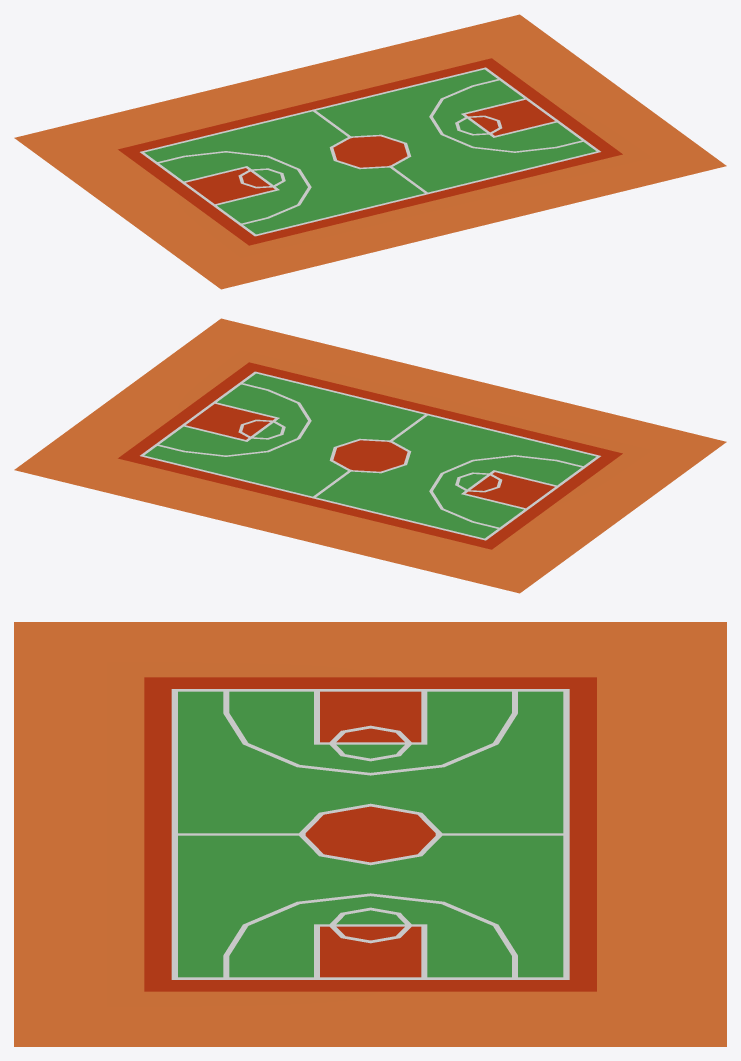
File: SANBONGRO.fbx
The picture shows the model from 3 angles, top to bottom: view 1: azimuth 30°, elevation 25°; view 2: azimuth 150°, elevation 25°; view 3: azimuth 270°, elevation 25°; orthographic projection. The views are drawn at different scales.
Visible parts, largest first — view 1: SANBONGRO; view 2: SANBONGRO; view 3: SANBONGRO.
Part boxes in pixels (bbox=[...]): SANBONGRO: bbox=[14, 14, 726, 289]; SANBONGRO: bbox=[14, 318, 726, 593]; SANBONGRO: bbox=[14, 622, 726, 1046].
Bounding box in the file's own units: 5297 × 0.000776 × 3756.
